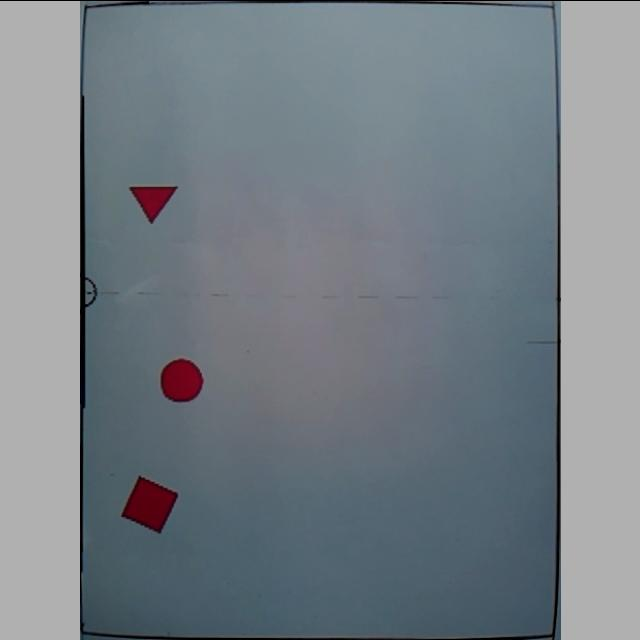pinkCircle: (158, 358, 204, 402)
pinkSquare: (118, 474, 178, 534)
pinkTriangle: (126, 182, 178, 224)
